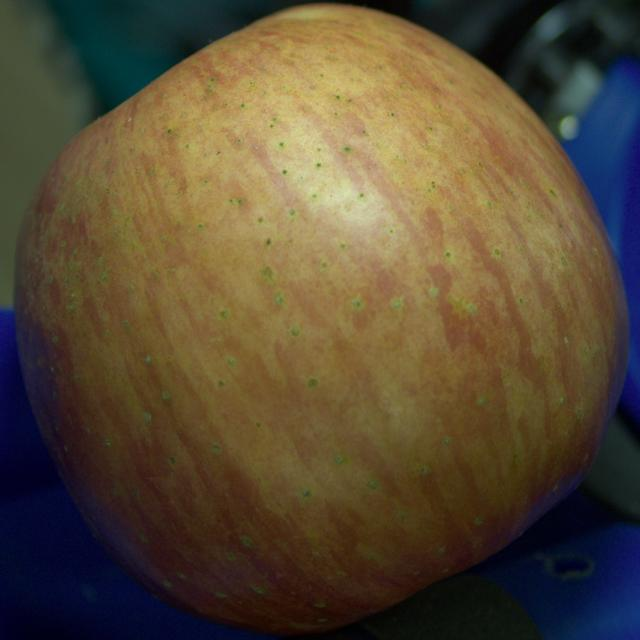apple: (14, 4, 629, 634)
